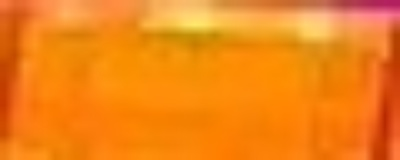Hotspot: (131, 1, 398, 56)
